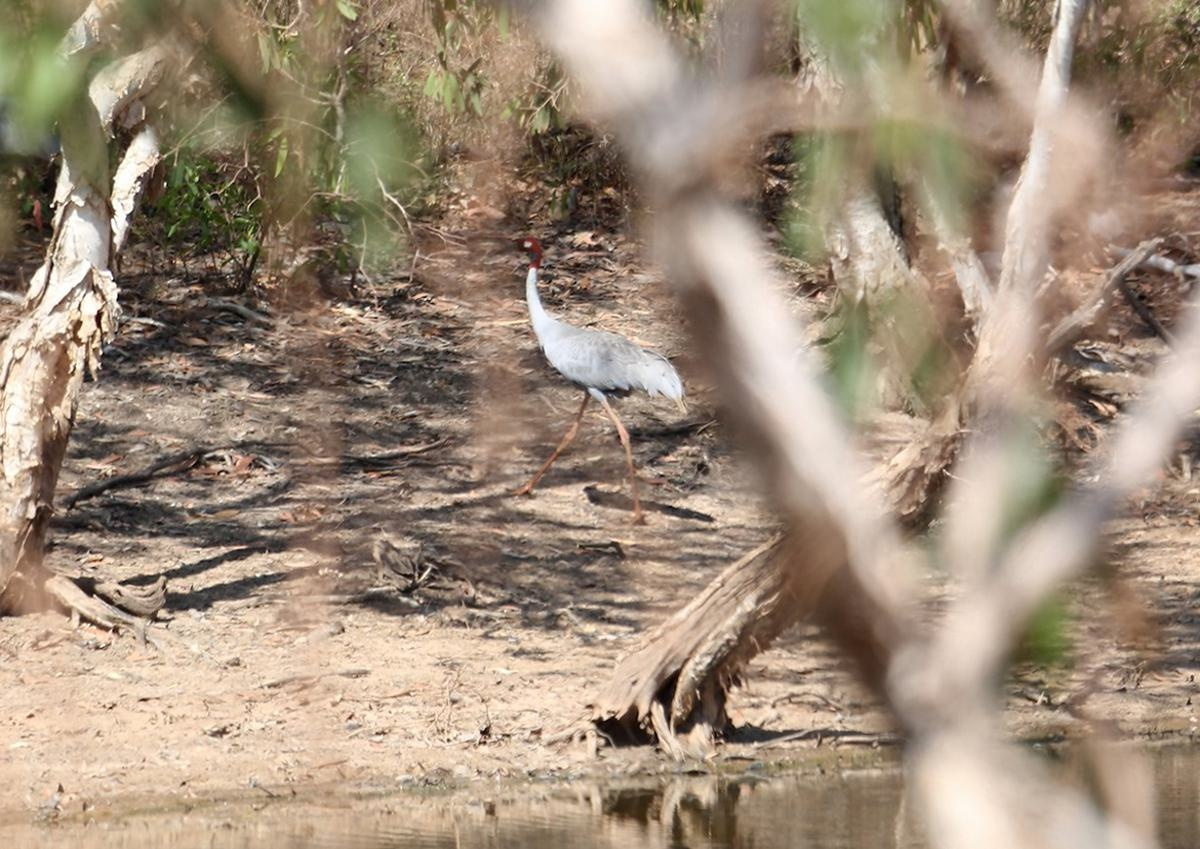crane: (496, 226, 696, 500)
